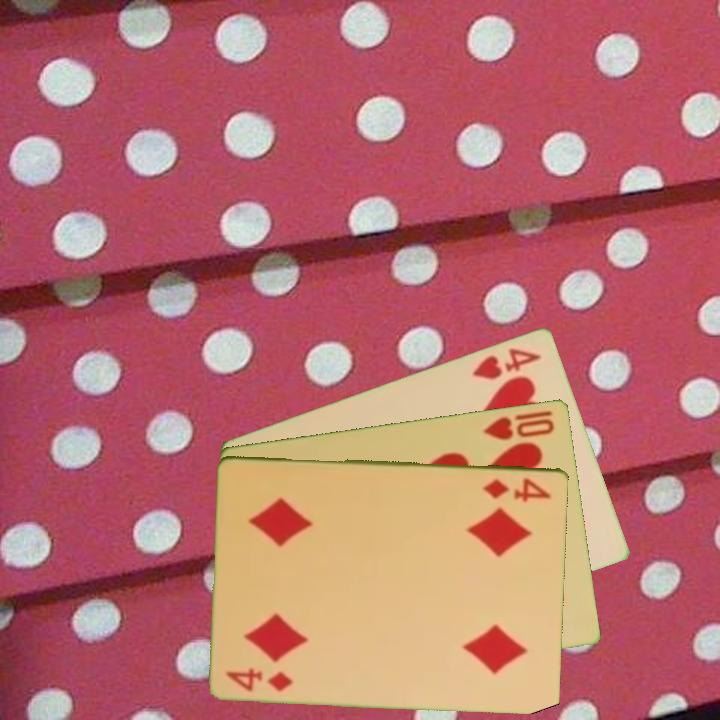10h: (480, 406, 558, 442)
4d: (479, 474, 554, 504), (222, 664, 296, 694)
4h: (469, 343, 544, 382)
